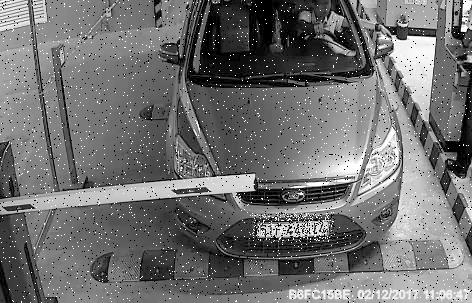License-plate: (253, 214, 335, 243)
